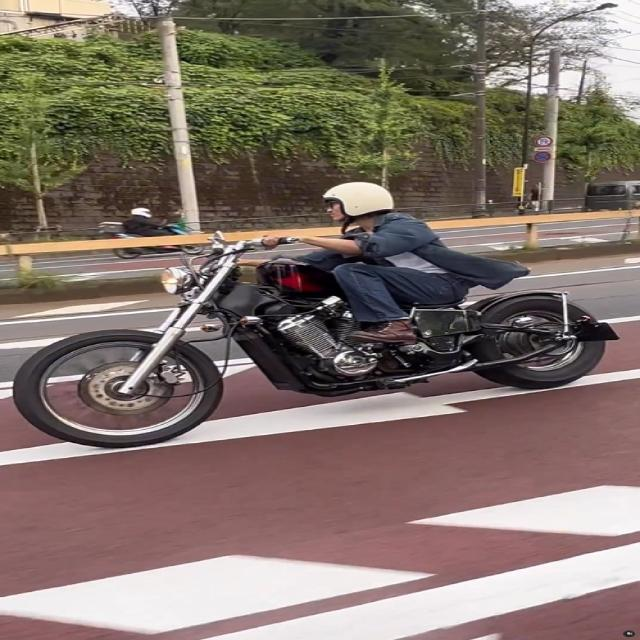helmet: (317, 178, 399, 227)
